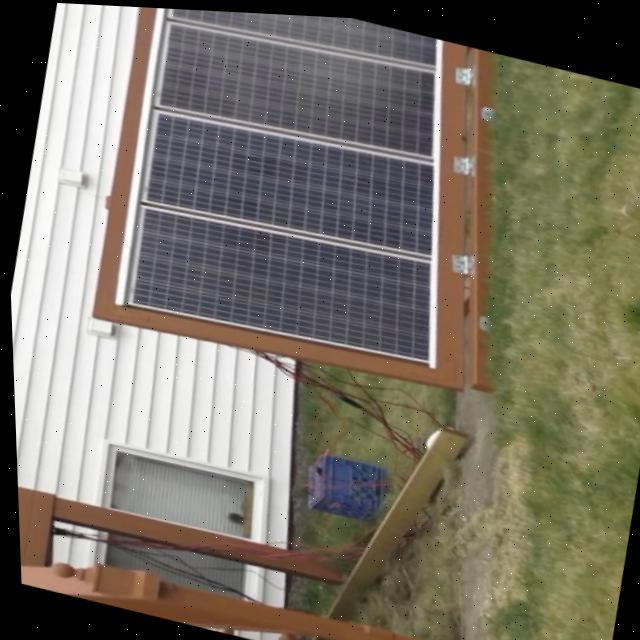Normal Solar Panel: (107, 5, 487, 372), (126, 192, 442, 369)
